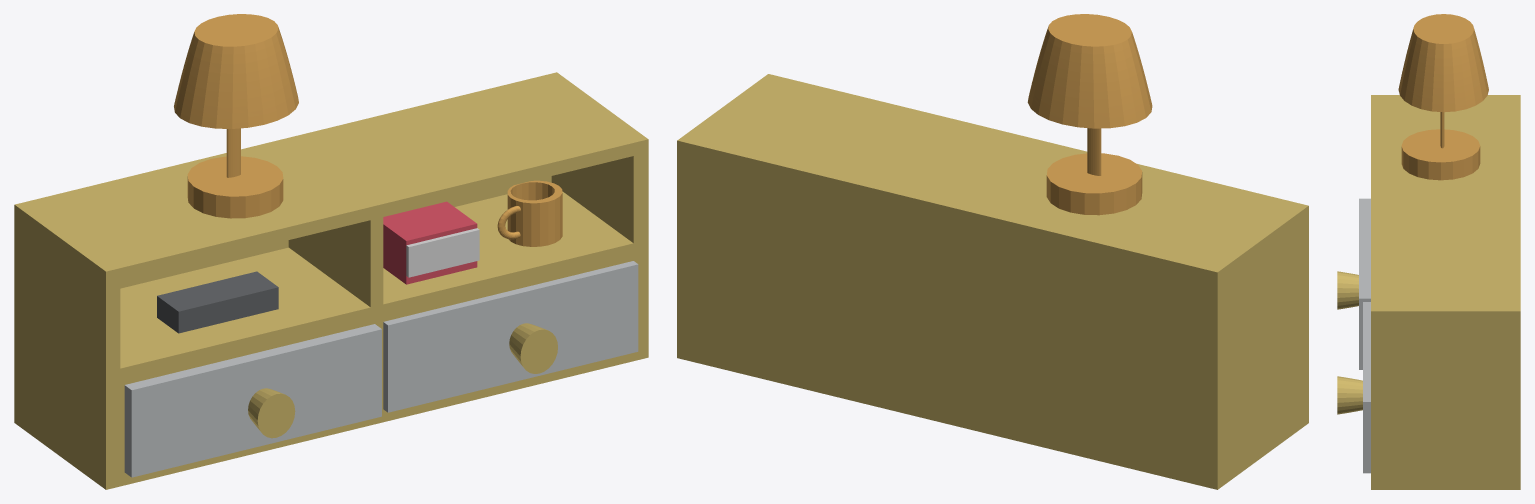
File: Project 149.glb
3 views of the same model, side by side, from view 1: azimuth 30°, elevation 25°; view 2: azimuth 150°, elevation 25°; view 3: azimuth 270°, elevation 25° (orthographic). The views are drawn at different scales.
Visible parts, largest first — view 1: Mesh_Mesh_head_geo.001_lambert2SG.001; view 2: Mesh_Mesh_head_geo.001_lambert2SG.001; view 3: Mesh_Mesh_head_geo.001_lambert2SG.001.
Part boxes in pixels (x1,y1,x2,y2): Mesh_Mesh_head_geo.001_lambert2SG.001: (14, 14, 648, 489); Mesh_Mesh_head_geo.001_lambert2SG.001: (677, 14, 1308, 489); Mesh_Mesh_head_geo.001_lambert2SG.001: (1337, 14, 1520, 489).
Bounding box in the file's own units: 130 × 88 × 46.5.
